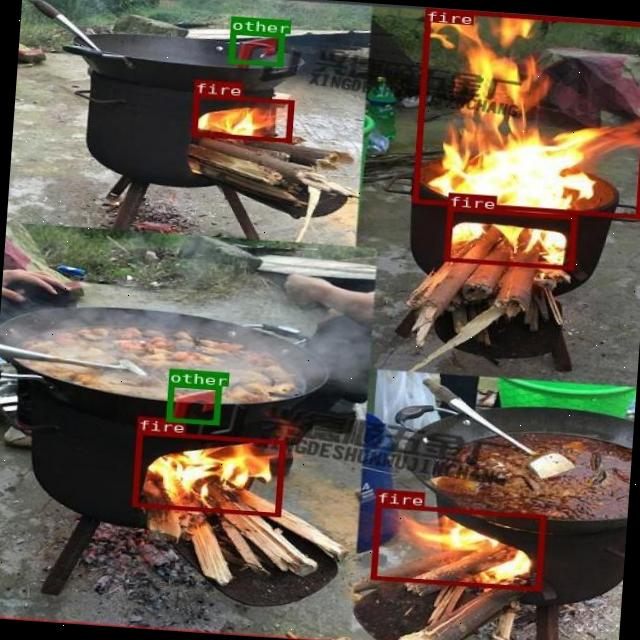fire: (410, 7, 640, 218), (369, 502, 545, 590), (130, 430, 284, 516), (444, 207, 576, 270), (190, 92, 292, 142)
